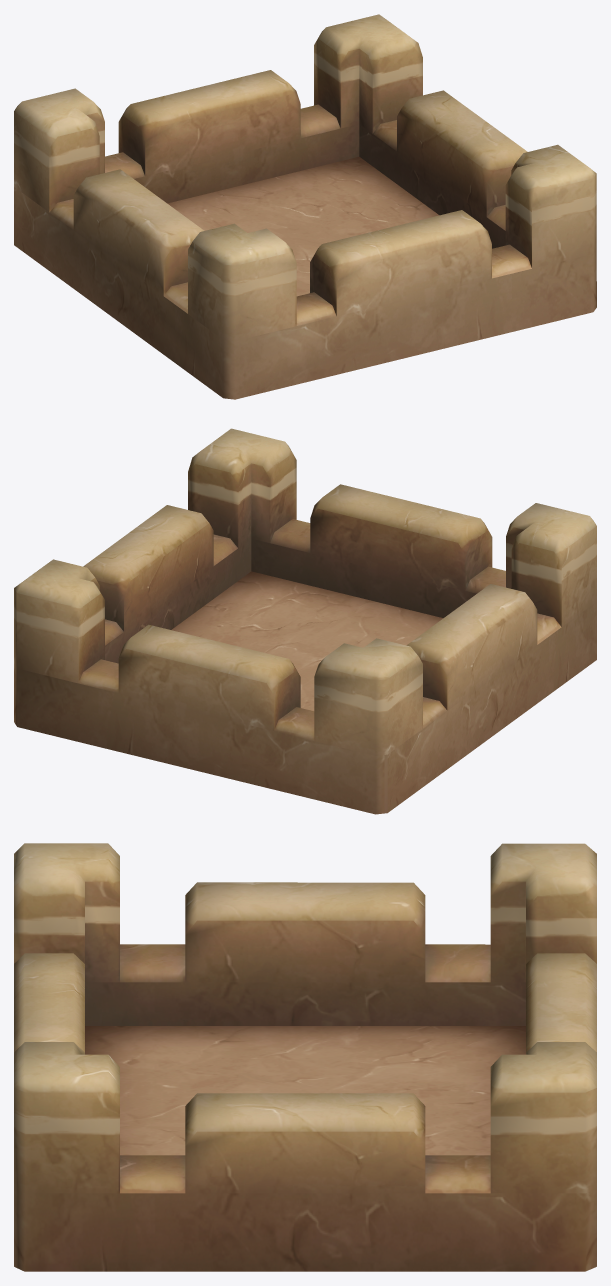
File: DE_House_Mod_Part_12.fbx
3 views of the same model, one above another, from view 1: azimuth 30°, elevation 25°; view 2: azimuth 150°, elevation 25°; view 3: azimuth 270°, elevation 25° (orthographic). The views are drawn at different scales.
Visible parts, largest first — view 1: DE_House_Mod_Part_12; view 2: DE_House_Mod_Part_12; view 3: DE_House_Mod_Part_12.
Boxes of the visible parts, x1=… form: DE_House_Mod_Part_12: x1=14, y1=14, x2=596, y2=399; DE_House_Mod_Part_12: x1=14, y1=428, x2=596, y2=814; DE_House_Mod_Part_12: x1=14, y1=843, x2=596, y2=1271.
Bounding box in the file's own units: 5.93 × 2.15 × 6.
